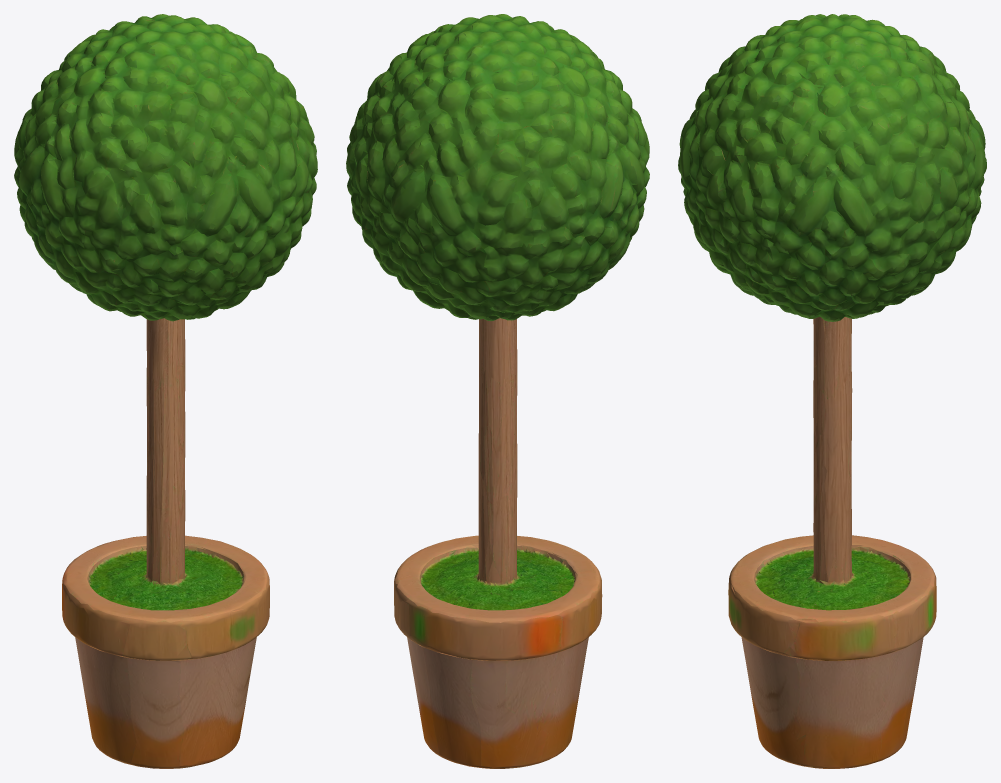
File: tree.glb
3 views of the same model, side by side, from view 1: azimuth 30°, elevation 25°; view 2: azimuth 150°, elevation 25°; view 3: azimuth 270°, elevation 25° (orthographic).
Bounding box in the file's own units: 0.7464 × 1.9 × 0.746.
1 material, 1 textured.
